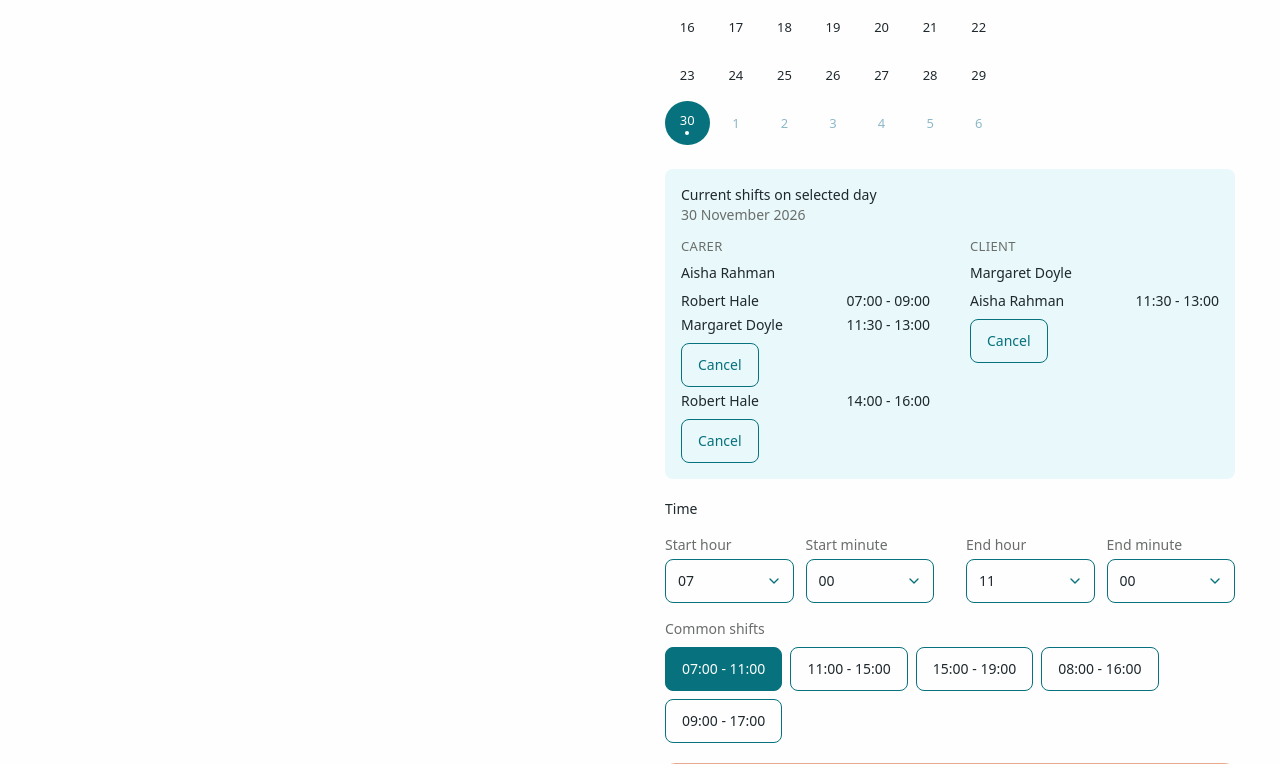
[ADM-09][AC-09] Cancel shift › [ADM-09][AC-09] a failed cancel shows an alert and keeps the shift
(page scrolled)
Click the button with aria-label "Cancel shift, Aisha Rahman, Margaret Doyle, 11:30 - 13:00": (720, 365) 681,343 -> 759,387
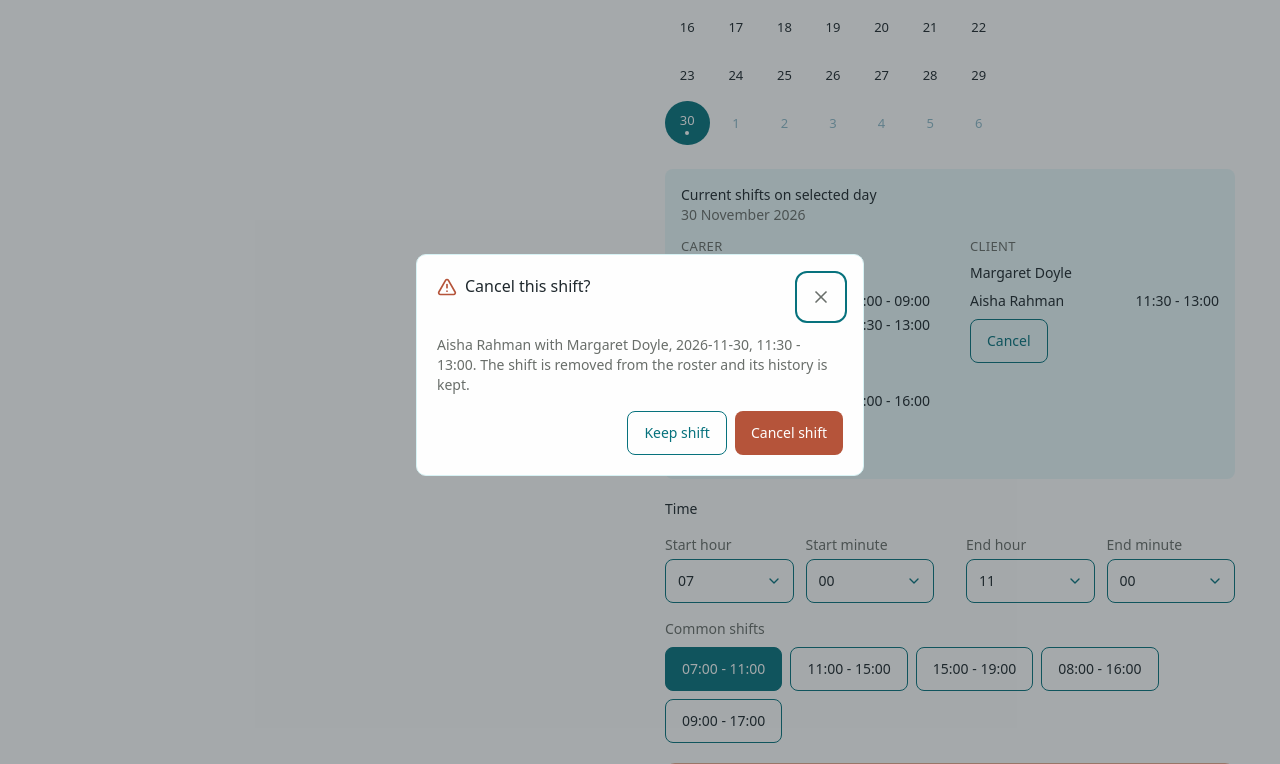
Click the button "Cancel shift": (789, 433) 735,411 -> 843,455
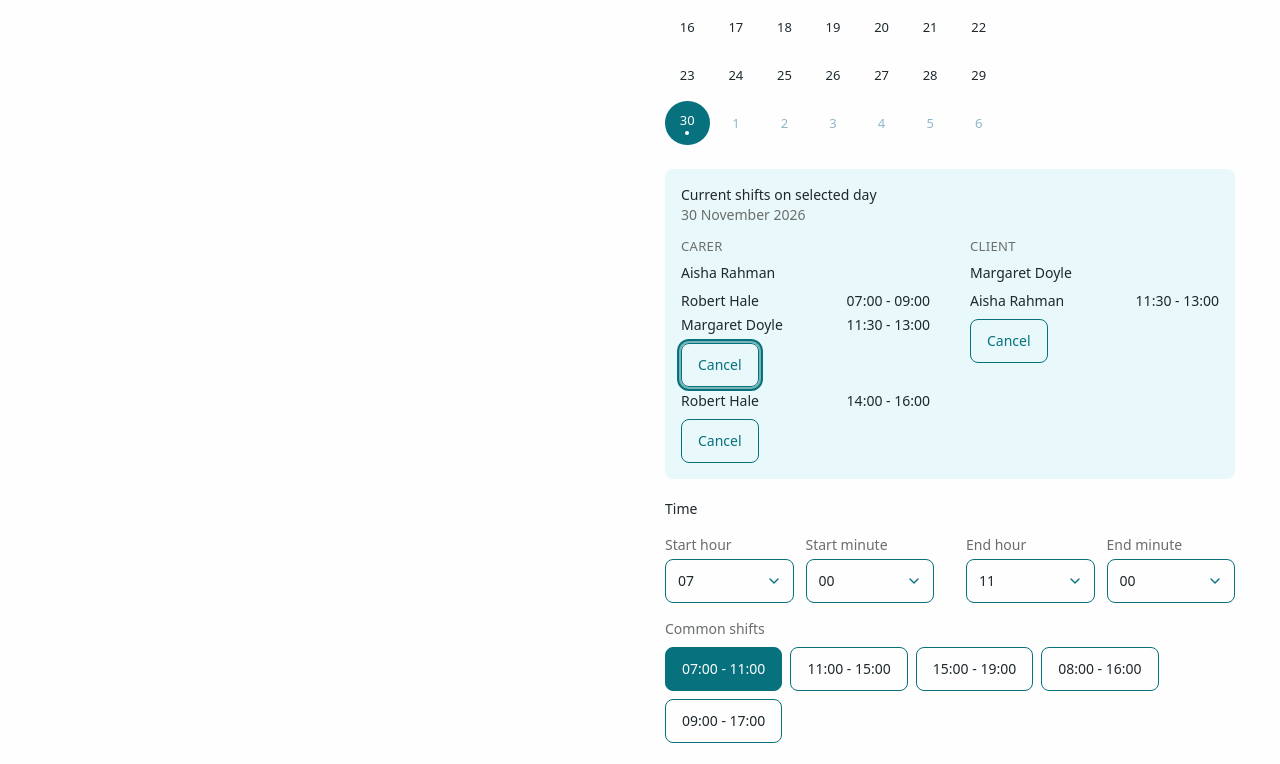
Expected: the text "11:30 - 13:00" below "Carer" is shown, 847,315 -> 930,335
Expected: the dialog is gone
